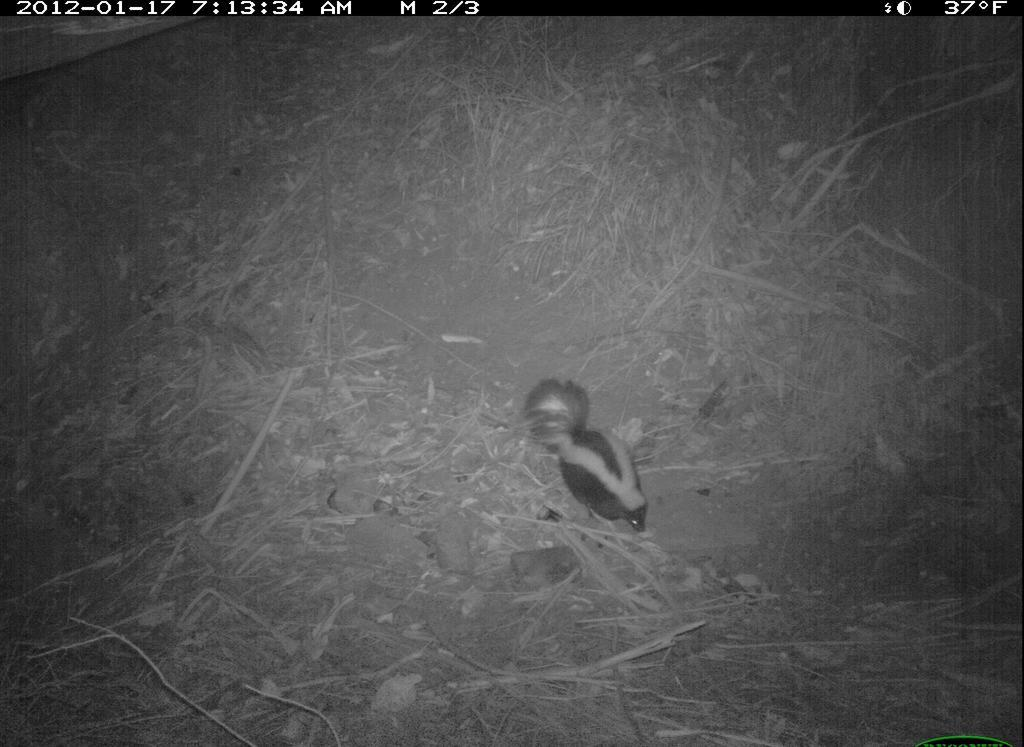skunk: (521, 373, 669, 539)
